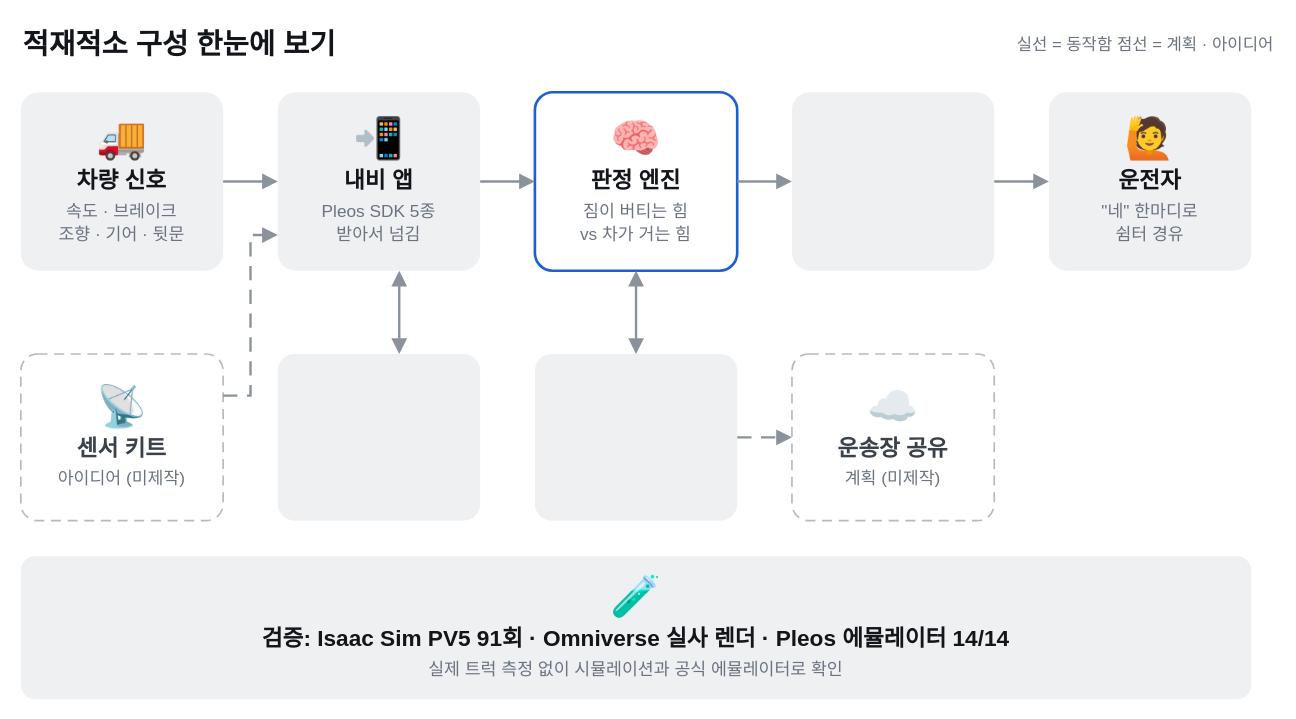
This 1296x719 diagram has some shape labels left out. The centre of each missing label's shape, as x and y in pixels:
"📱 휴대폰 판 상차 · 사진 · 기록 L4 허브 (무인 트럭)" goes at (635,436).
"🔊 화면 · 음성 정차: 3D 확인 주행: 한 문장" goes at (892,181).
"🧭 Pleos 내비 쉼터를 경유지로" goes at (378,436).
